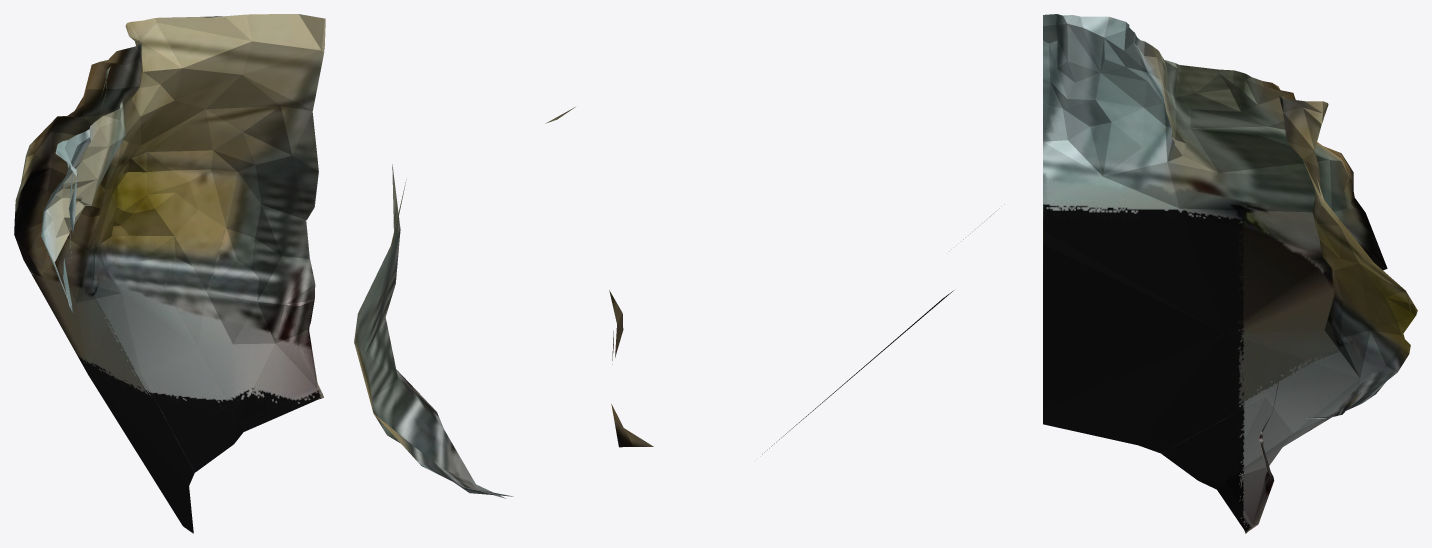
3 renders of one model, left to right at view 1: azimuth 30°, elevation 25°; view 2: azimuth 150°, elevation 25°; view 3: azimuth 270°, elevation 25°, orthographic. The views are drawn at different scales.
Size of the model in its own units: 1.64 by 1.67 by 1.58.
4 materials, 4 textured.
